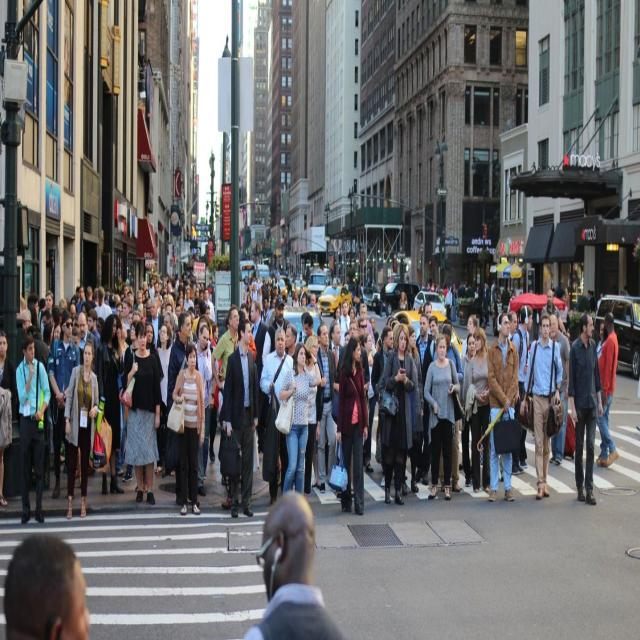body: (236, 488, 362, 639), (1, 530, 92, 640), (518, 313, 564, 503), (476, 311, 521, 504), (160, 309, 202, 507), (118, 318, 162, 506), (374, 322, 416, 507), (327, 334, 369, 516), (566, 310, 604, 507), (274, 341, 322, 496), (164, 341, 206, 517), (14, 330, 52, 524), (224, 317, 260, 519), (332, 318, 371, 502), (45, 307, 81, 502), (258, 326, 296, 508), (422, 332, 462, 503), (62, 340, 100, 519), (180, 323, 213, 498), (432, 322, 464, 495), (135, 319, 165, 495), (96, 313, 124, 496), (103, 270, 211, 317), (24, 324, 53, 493), (464, 326, 492, 494), (370, 324, 396, 489), (218, 336, 241, 511), (192, 313, 219, 462), (511, 303, 534, 470), (316, 322, 338, 495), (596, 312, 620, 469), (192, 323, 214, 483), (303, 335, 324, 500), (415, 313, 435, 485), (549, 314, 571, 466), (0, 328, 18, 508), (458, 313, 478, 472), (458, 331, 478, 489), (406, 324, 424, 495), (210, 303, 241, 398), (154, 323, 172, 477), (306, 336, 322, 490), (360, 330, 377, 474), (261, 296, 291, 370), (595, 319, 610, 463), (419, 275, 475, 309), (118, 320, 130, 477), (537, 288, 571, 339), (77, 310, 99, 376), (250, 300, 268, 380), (241, 271, 283, 301), (237, 309, 257, 362), (326, 320, 344, 373), (123, 320, 139, 374), (191, 300, 213, 339), (336, 298, 352, 347), (359, 302, 376, 348), (94, 285, 114, 322), (416, 300, 434, 341), (40, 289, 56, 335), (47, 305, 61, 349), (558, 294, 572, 337), (71, 320, 84, 365), (328, 306, 342, 346), (295, 311, 311, 345), (162, 311, 178, 345), (87, 307, 101, 343), (80, 285, 98, 313), (285, 323, 298, 361), (37, 297, 47, 342), (303, 314, 317, 346), (490, 277, 498, 333), (50, 321, 64, 352), (353, 277, 363, 320), (499, 279, 511, 314), (15, 307, 33, 330), (482, 281, 491, 326), (208, 323, 220, 356), (238, 302, 252, 330), (19, 306, 33, 334), (622, 285, 632, 324), (617, 288, 625, 336), (379, 283, 389, 319), (507, 310, 518, 342), (51, 320, 63, 348), (26, 294, 40, 318), (444, 285, 453, 322), (75, 284, 86, 314), (201, 303, 215, 324), (428, 314, 440, 338), (369, 316, 379, 344), (305, 292, 319, 310), (40, 308, 52, 328), (289, 290, 302, 307), (358, 315, 368, 337), (398, 290, 408, 312), (70, 285, 80, 306), (562, 286, 570, 312), (57, 297, 68, 315), (588, 290, 596, 314), (91, 287, 99, 310), (298, 285, 306, 306), (596, 291, 604, 312), (68, 302, 78, 318), (390, 320, 402, 332), (390, 319, 400, 333), (442, 318, 452, 331), (347, 306, 355, 320), (300, 294, 308, 308), (344, 329, 350, 346), (386, 315, 394, 327), (104, 290, 110, 306), (233, 338, 239, 352), (588, 289, 592, 301)
